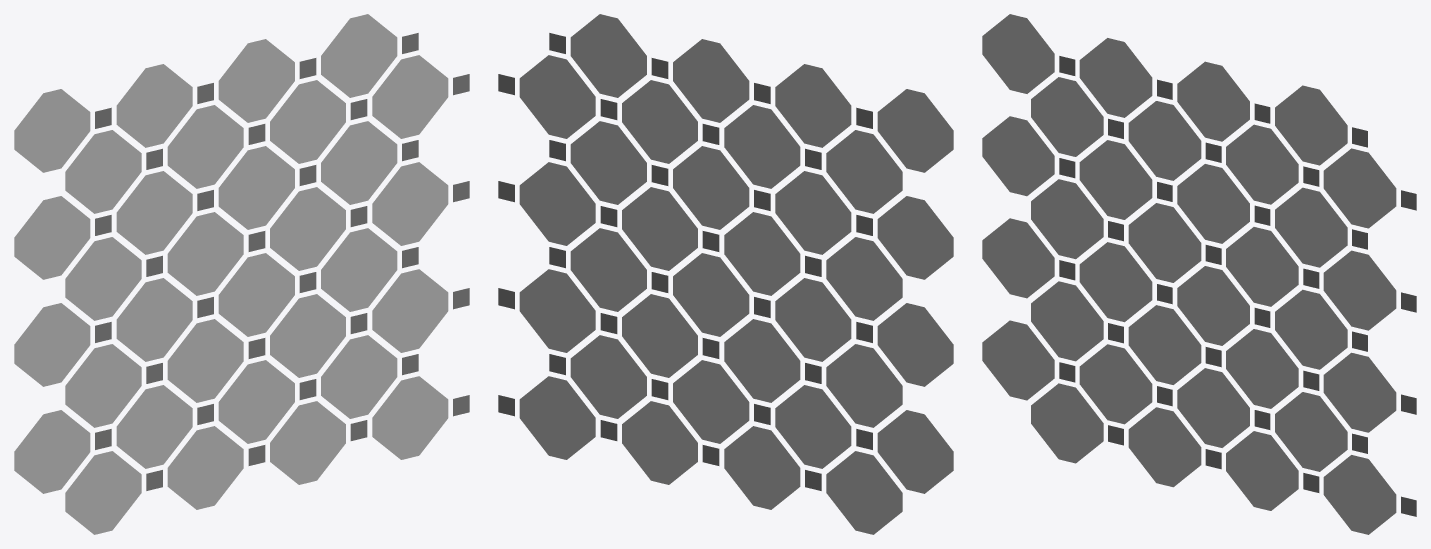
File: octagonydotmosaic.gltf
The picture shows the model from 3 angles, left to right: view 1: azimuth 30°, elevation 25°; view 2: azimuth 150°, elevation 25°; view 3: azimuth 330°, elevation 25°; orthographic projection. The views are drawn at different scales.
Visible parts, largest first — view 1: octagon; view 2: octagon; view 3: octagon.
Boxes of the visible parts, left/top/right/bottom form: octagon: left=14, top=14, right=469, bottom=534; octagon: left=498, top=14, right=953, bottom=534; octagon: left=982, top=14, right=1416, bottom=534.
Size of the model in its own units: 304 by 290 by 0.
Materials: 64 (64 with a texture image).
